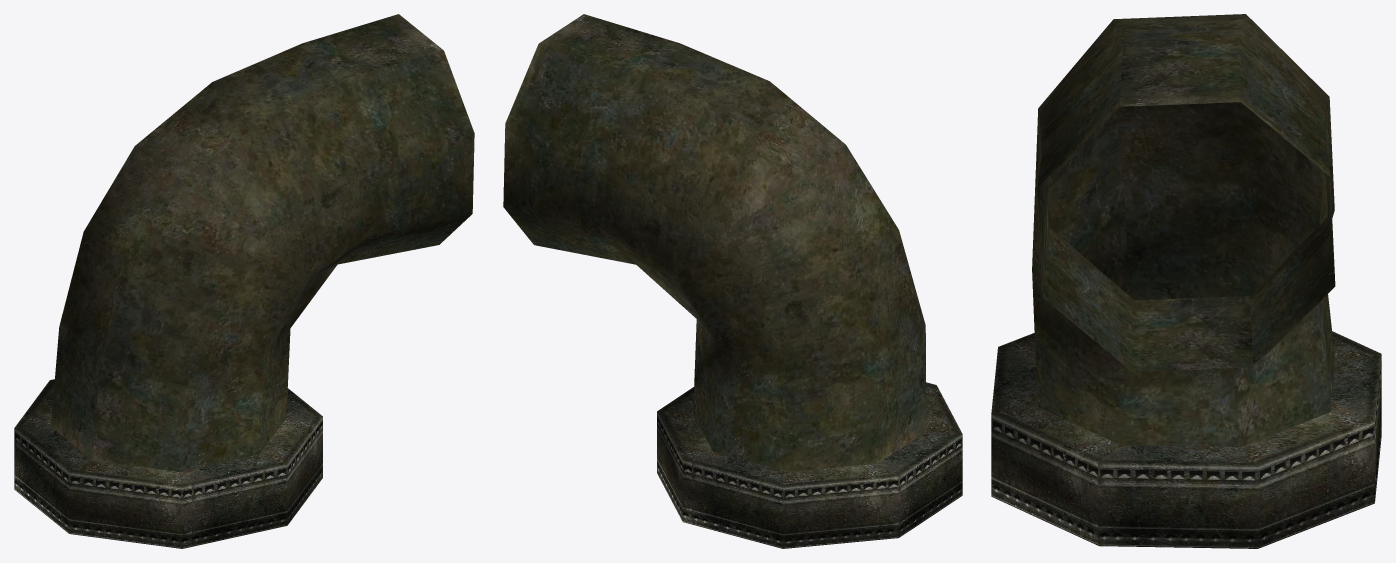
Rendered from KM_VOB_PIPE_NODE_01.glb.
3 views of the same model, side by side, from view 1: azimuth 30°, elevation 25°; view 2: azimuth 150°, elevation 25°; view 3: azimuth 270°, elevation 25° (orthographic). The views are drawn at different scales.
Visible parts, largest first — view 1: Mesh; view 2: Mesh; view 3: Mesh.
Part boxes in pixels (x1,y1,x2,y2): Mesh: (14, 14, 474, 548); Mesh: (503, 14, 962, 548); Mesh: (991, 14, 1381, 548).
Bounding box in the file's own units: 0.9081 × 0.9078 × 0.6079.
Materials: 2 (2 with a texture image).
